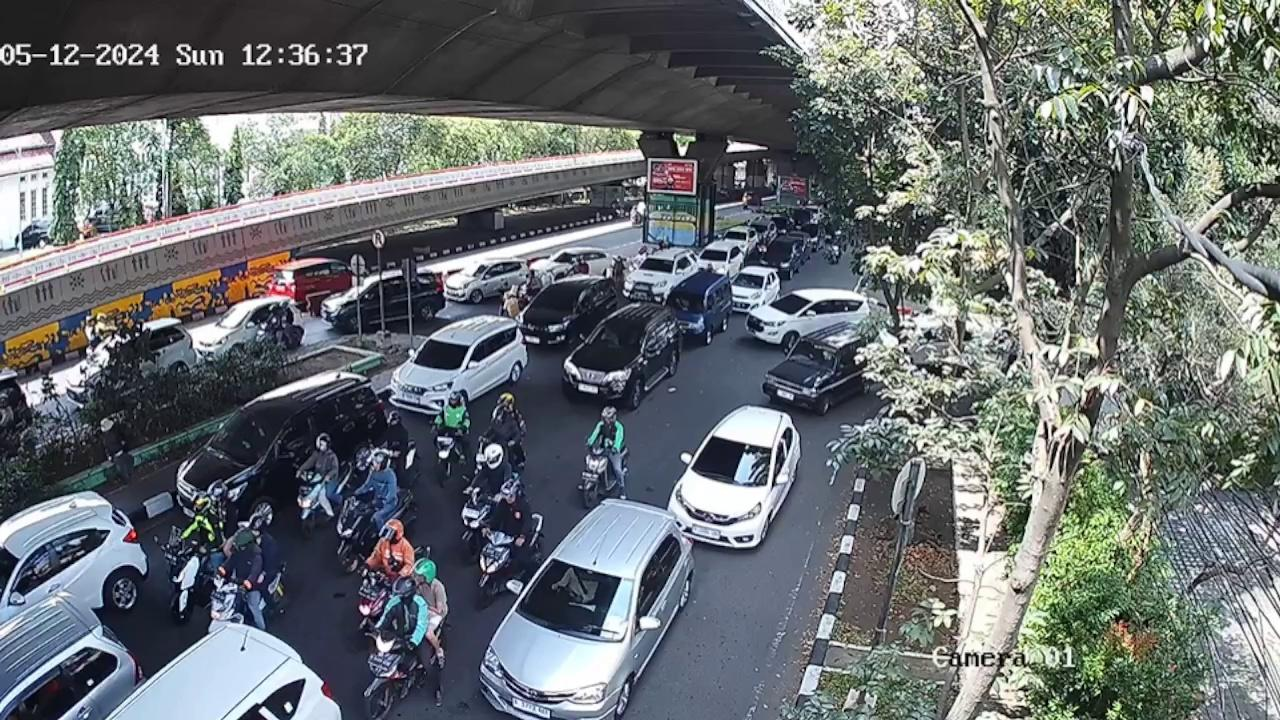windshield: (521, 557, 636, 645), (692, 432, 774, 482), (580, 317, 652, 354), (400, 339, 472, 372)
